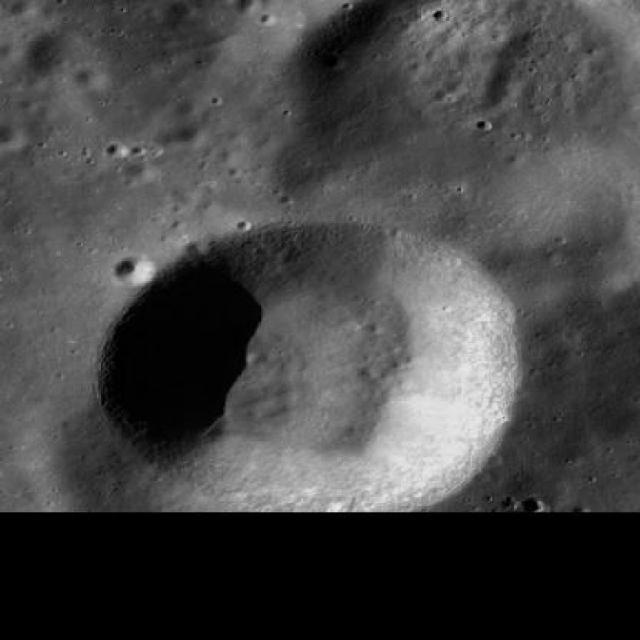crater: (104, 220, 530, 523), (51, 390, 306, 572), (499, 27, 592, 93), (488, 248, 572, 308), (23, 30, 100, 86), (113, 256, 156, 286), (480, 82, 520, 110), (0, 122, 28, 152), (154, 128, 188, 152), (122, 161, 155, 184), (75, 68, 108, 90), (176, 125, 207, 146), (176, 97, 204, 117), (10, 0, 36, 17), (322, 54, 344, 72), (105, 143, 128, 160), (171, 2, 194, 18), (520, 498, 543, 514), (0, 43, 20, 60), (237, 0, 260, 11), (0, 0, 3, 3)
